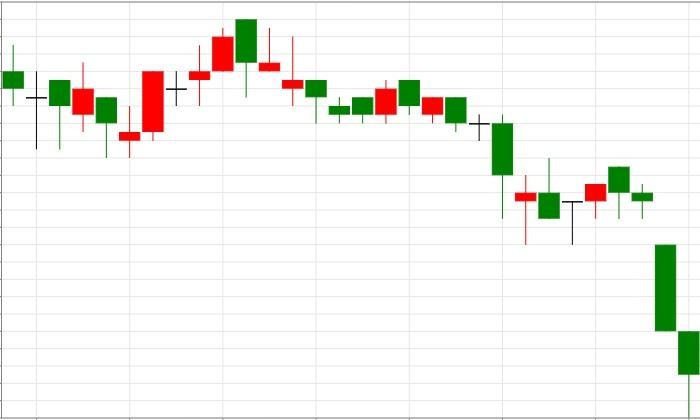three_black_crows_fall: (538, 158, 677, 332)
